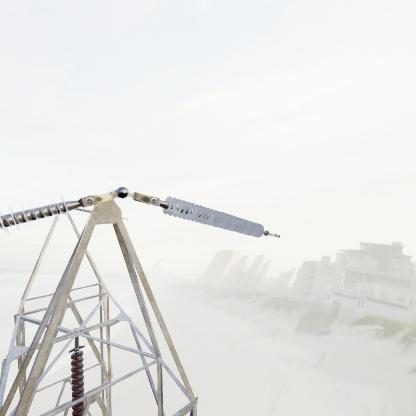insulator: (161, 192, 269, 242)
